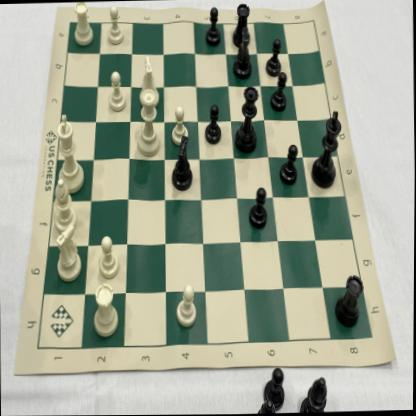black-king: (309, 108, 344, 192)
black-knight: (165, 134, 195, 193), (232, 26, 253, 82)
black-pawn: (277, 140, 301, 187), (201, 102, 224, 147), (246, 185, 268, 230), (268, 69, 289, 114), (202, 5, 222, 47), (264, 36, 283, 78)
black-queen: (231, 83, 262, 155)
black-rook: (333, 272, 365, 331), (229, 1, 252, 52)
white-bishop: (47, 176, 79, 234)
white-king: (50, 112, 85, 194)
white-knight: (51, 223, 85, 285), (137, 53, 163, 110)
white-pawn: (96, 231, 121, 282), (172, 280, 198, 329), (105, 67, 127, 113), (168, 102, 190, 146), (105, 3, 125, 46)
white-queen: (132, 88, 163, 159)
white-rook: (91, 283, 121, 340), (70, 1, 95, 49)
